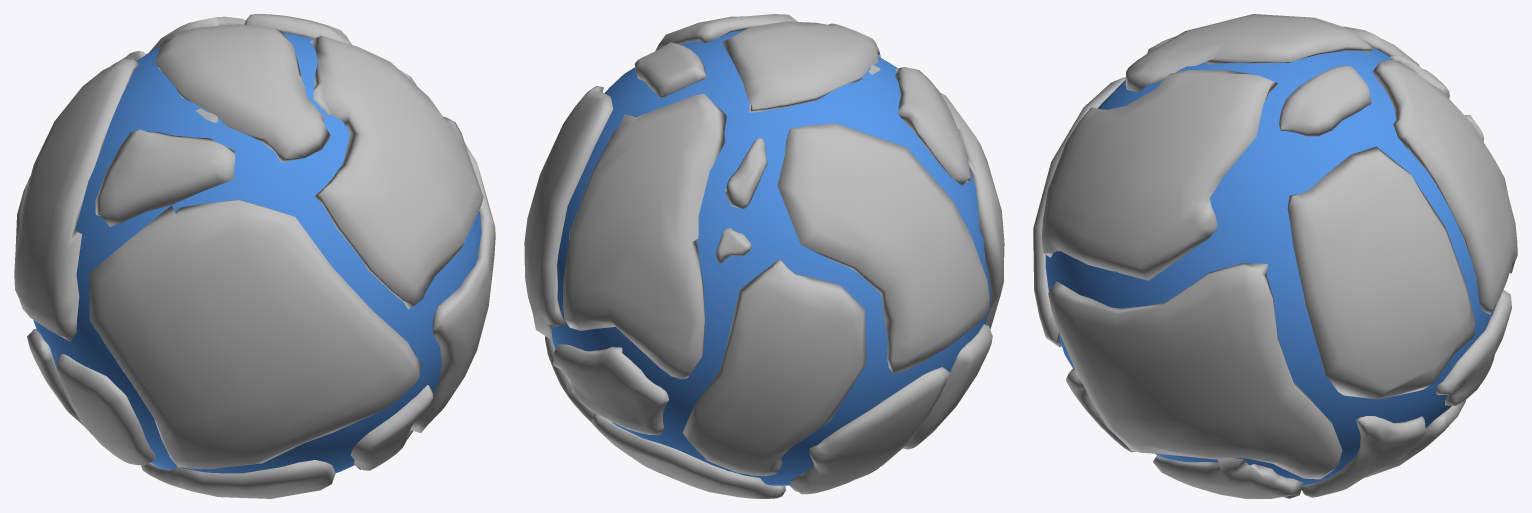
Rendered from planet5_rock.fbx.
3 renders of one model, left to right at view 1: azimuth 30°, elevation 25°; view 2: azimuth 150°, elevation 25°; view 3: azimuth 270°, elevation 25°, orthographic.
Visible parts, largest first — view 1: UMesh_rocks4, planet_low; view 2: UMesh_rocks4, planet_low; view 3: UMesh_rocks4, planet_low.
Boxes of the visible parts, x1,y1,x2,y2 form: UMesh_rocks4: (14,14,495,498); planet_low: (33,32,481,473); UMesh_rocks4: (524,14,1004,498); planet_low: (552,30,991,485); UMesh_rocks4: (1033,14,1517,498); planet_low: (1045,46,1496,485).
Size of the model in its own units: 209 by 210 by 209.
